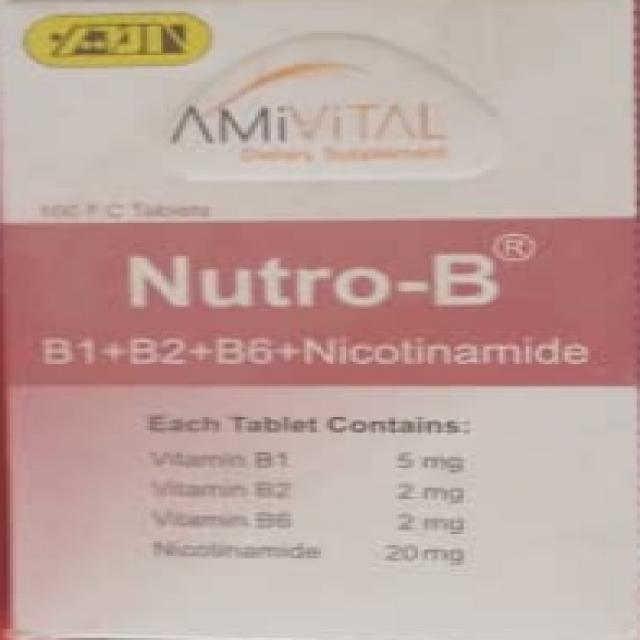drug-name: (125, 244, 499, 314)
